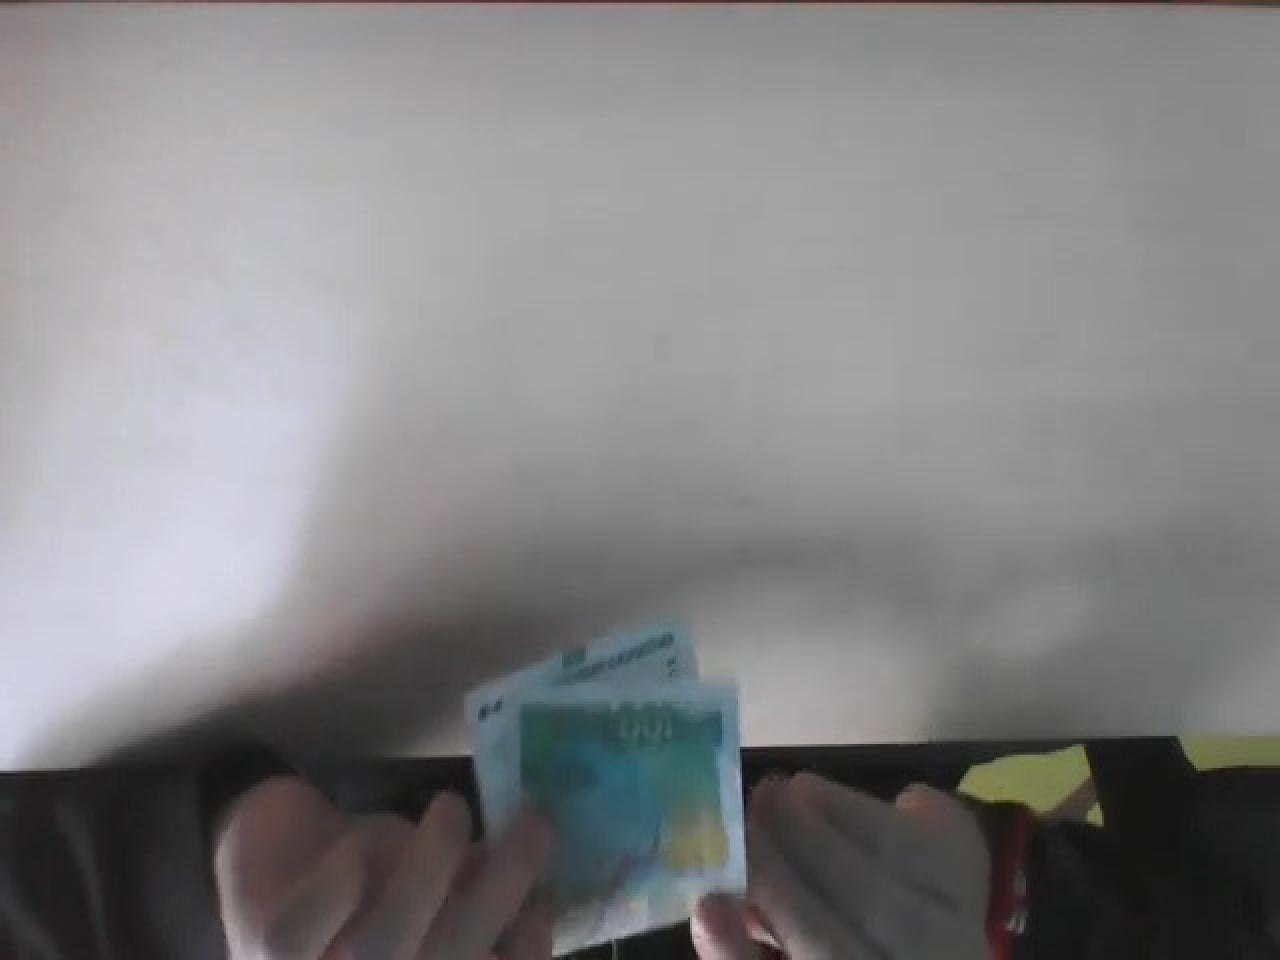100leva: (468, 621, 748, 957)
